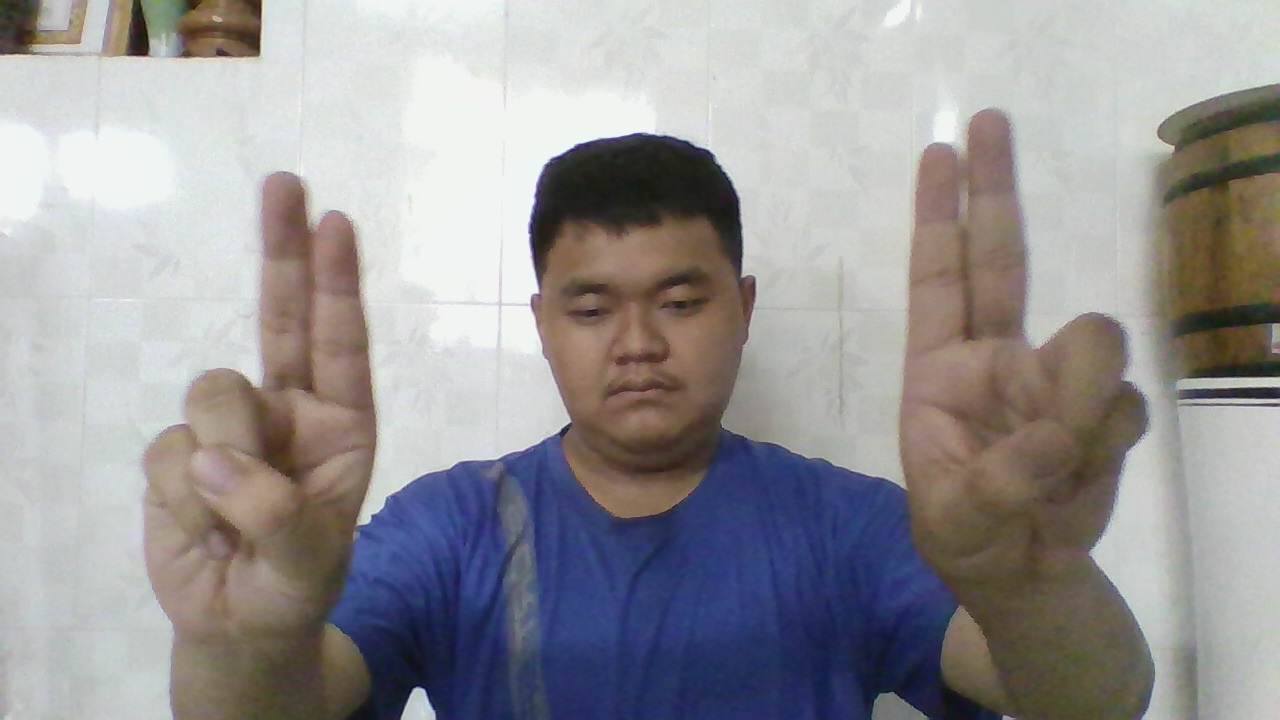U: (921, 112, 1139, 597), (157, 173, 353, 663)
